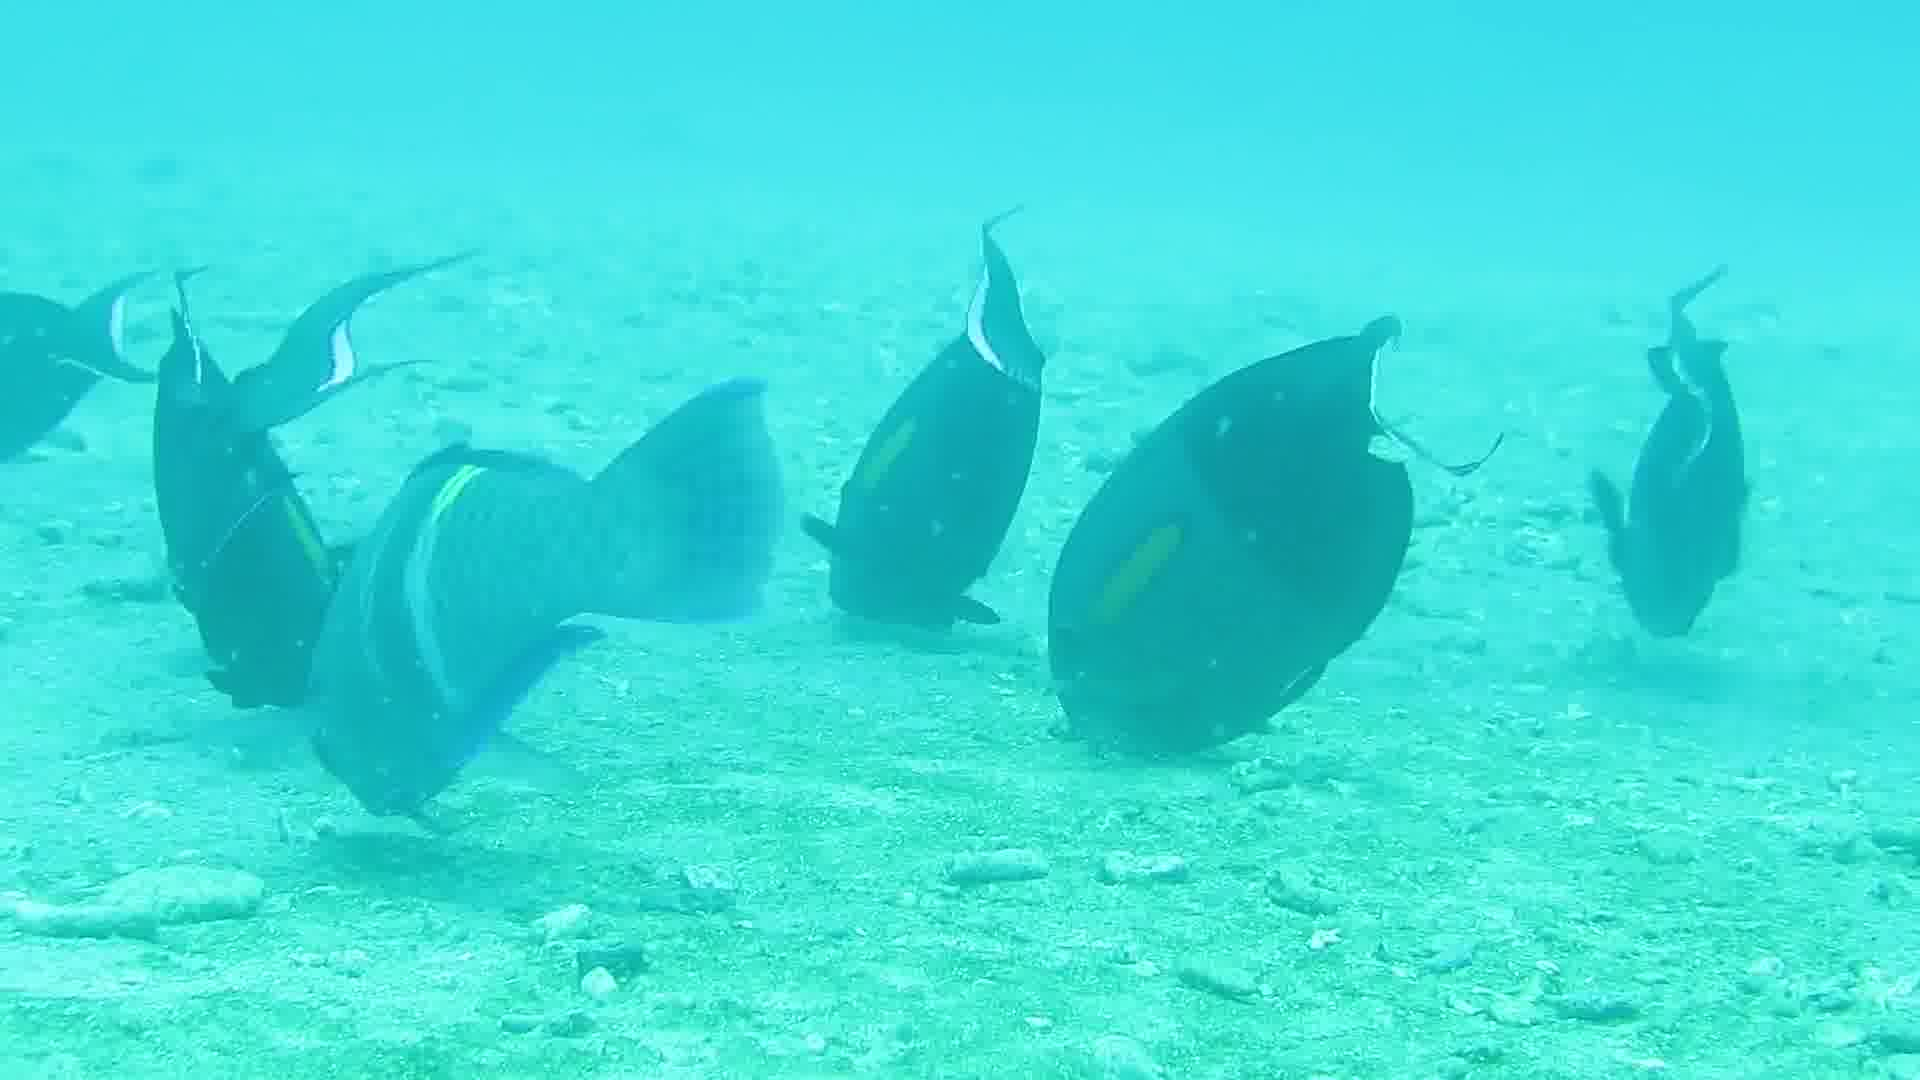Acanthurus olivaceus: (318, 298, 777, 835), (1025, 301, 1480, 775), (1545, 247, 1902, 702), (116, 200, 357, 766), (816, 189, 1072, 711)
